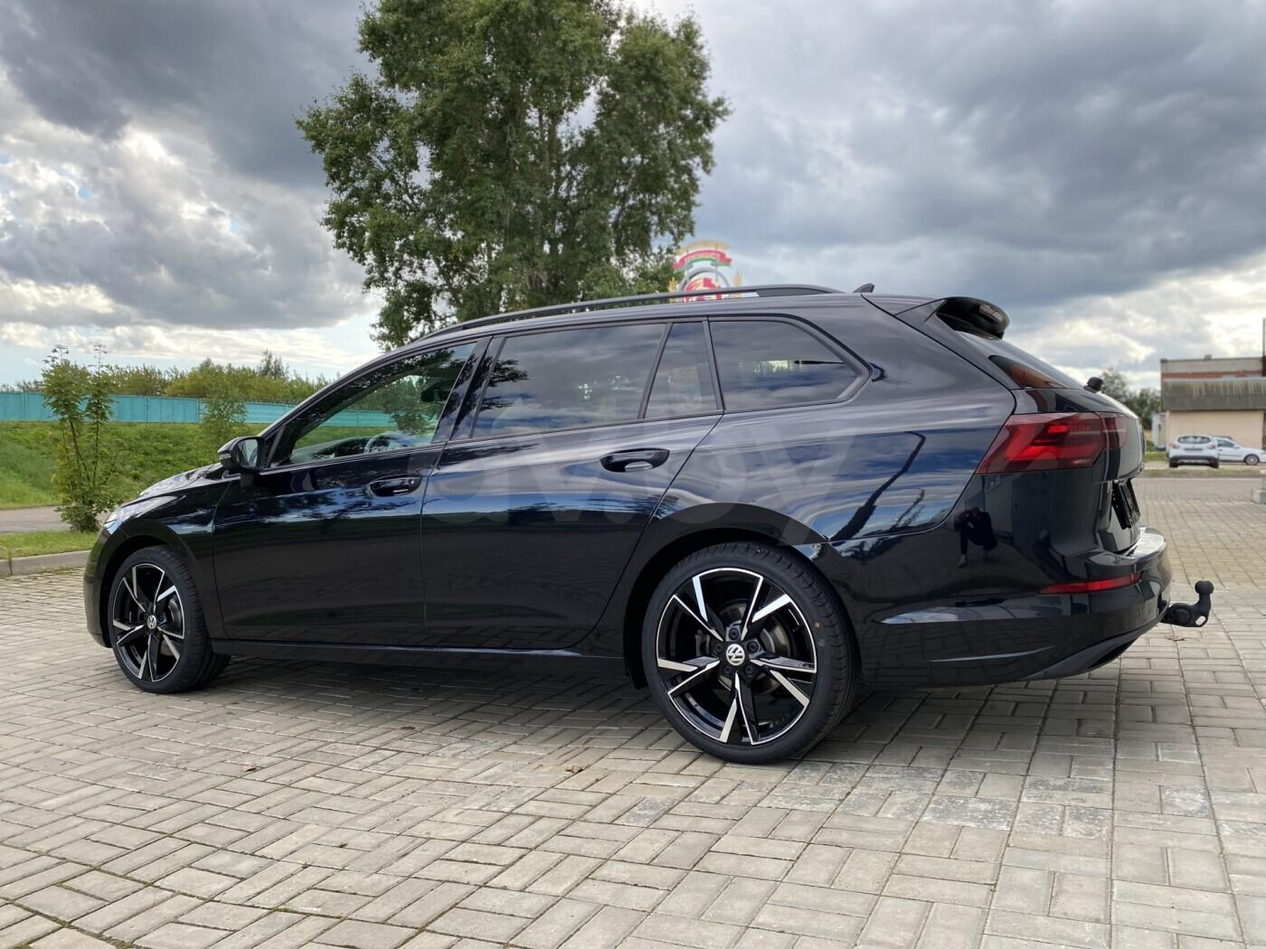Golf_2019: (78, 289, 1181, 772)
